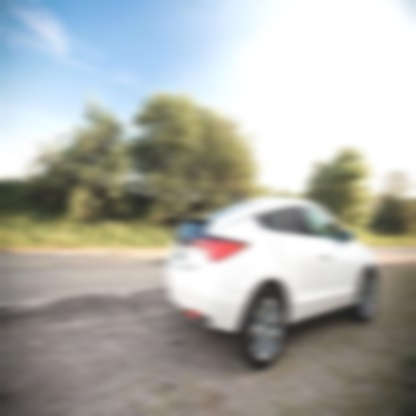Vehicle: (166, 196, 380, 371)
